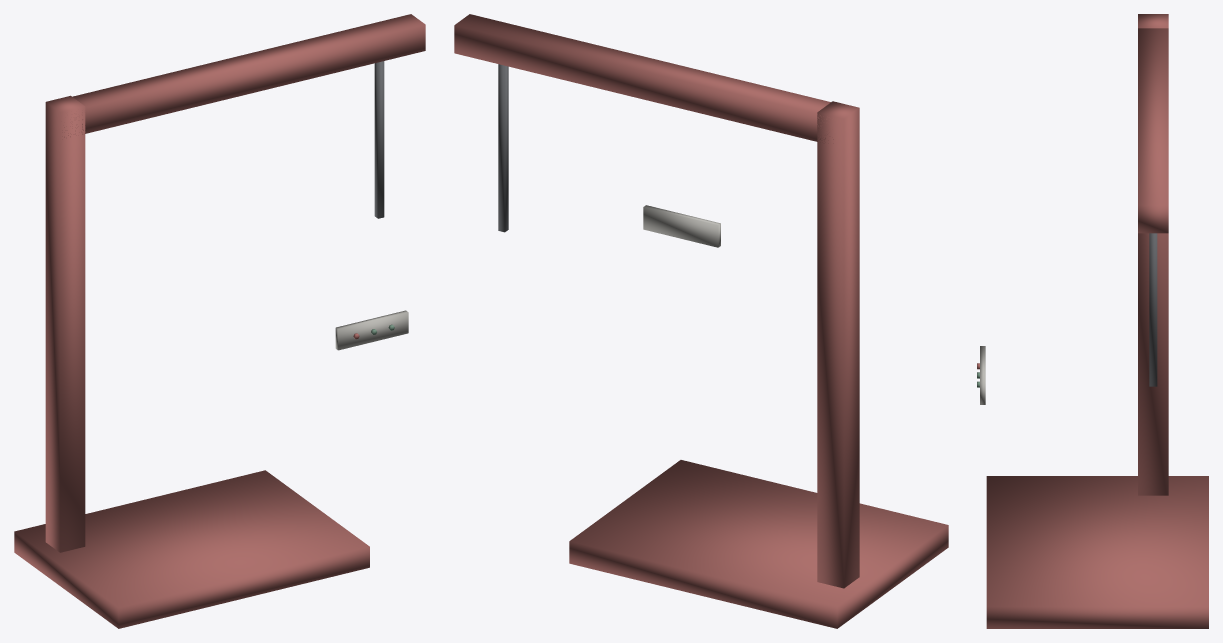
Rendered from chain_hoist.glb.
The picture shows the model from 3 angles, left to right: view 1: azimuth 30°, elevation 25°; view 2: azimuth 150°, elevation 25°; view 3: azimuth 270°, elevation 25°; orthographic projection. The views are drawn at different scales.
Visible parts, largest first — view 1: world; view 2: world; view 3: world.
Part boxes in pixels (<box>): world: <box>14,14,425,628</box>; world: <box>454,14,948,628</box>; world: <box>977,14,1208,628</box>.
Bounding box in the file's own units: 1.5 × 1.75 × 0.751.
